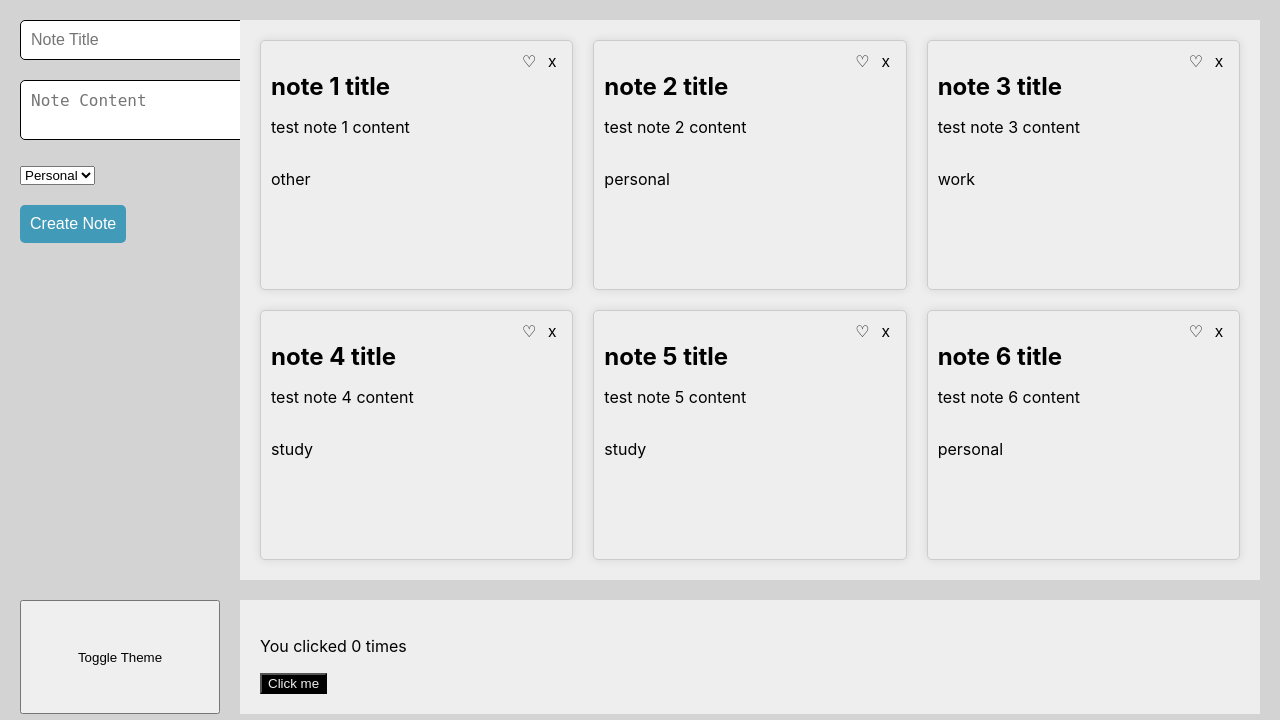
Test: Create StickyNote › delete element
Click the 1st button with test id "deleteNoteButton" at point(552, 62), box x1=542 y1=51 x2=562 y2=72
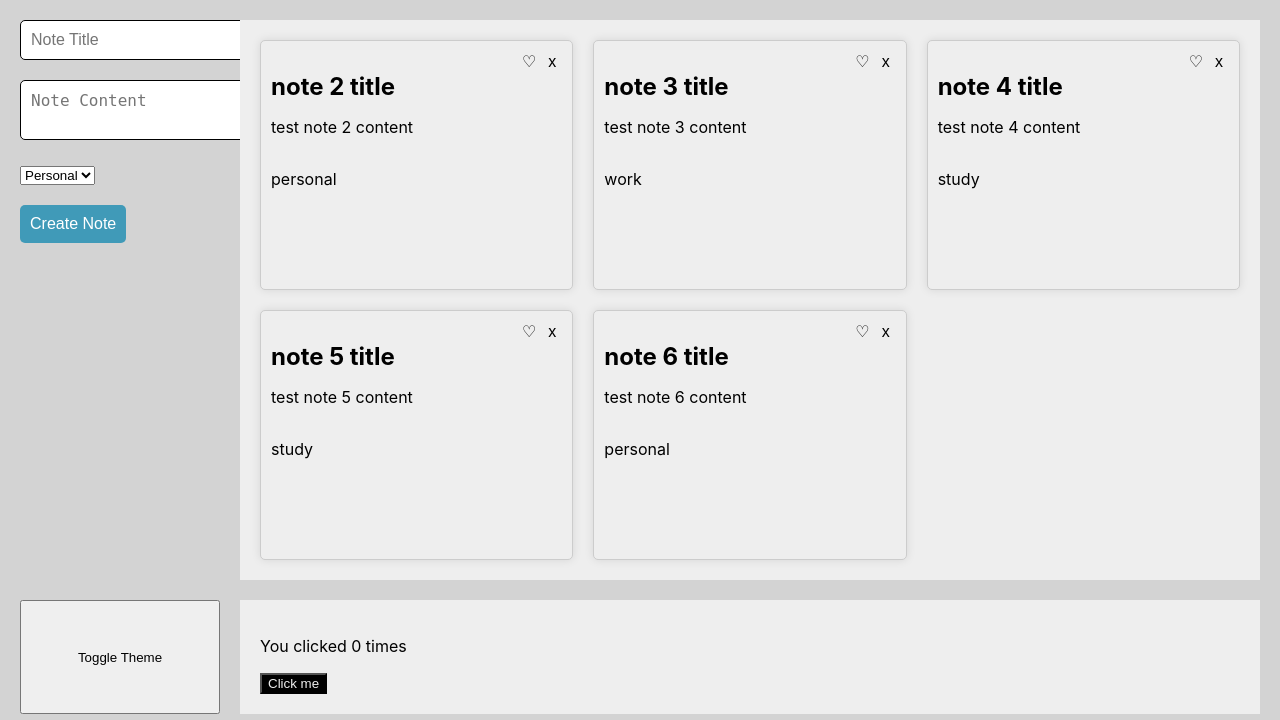
Result: the heading "note 1 title" is gone
